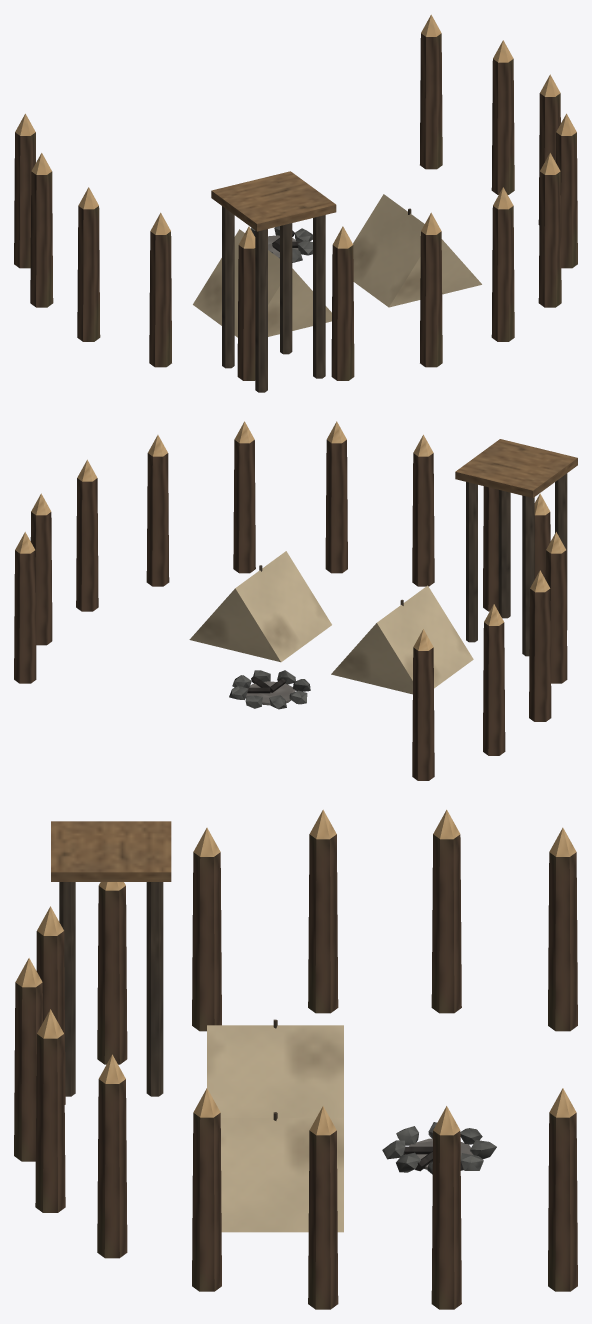
The model's file is SM_POI_Outpost.fbx.
3 views of the same model, one above another, from view 1: azimuth 30°, elevation 25°; view 2: azimuth 150°, elevation 25°; view 3: azimuth 270°, elevation 25° (orthographic). The views are drawn at different scales.
Visible parts, largest first — view 1: SM_POI_Outpost; view 2: SM_POI_Outpost; view 3: SM_POI_Outpost.
Part boxes in pixels (x1,y1,x2,y2): SM_POI_Outpost: [14, 14, 577, 392]; SM_POI_Outpost: [14, 421, 577, 780]; SM_POI_Outpost: [14, 809, 577, 1309].
Size of the model in its own units: 26.56 by 9.36 by 20.6.
1 material, 1 textured.
